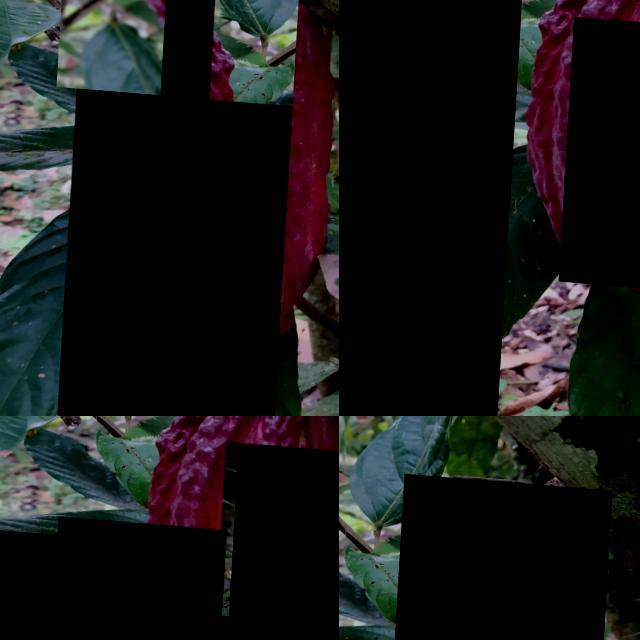Monilia: (65, 0, 300, 416), (564, 12, 640, 285)
Sana: (339, 0, 527, 416), (390, 470, 614, 640), (215, 437, 339, 640), (50, 514, 231, 640), (59, 0, 170, 91), (0, 523, 75, 640), (339, 366, 378, 416)
